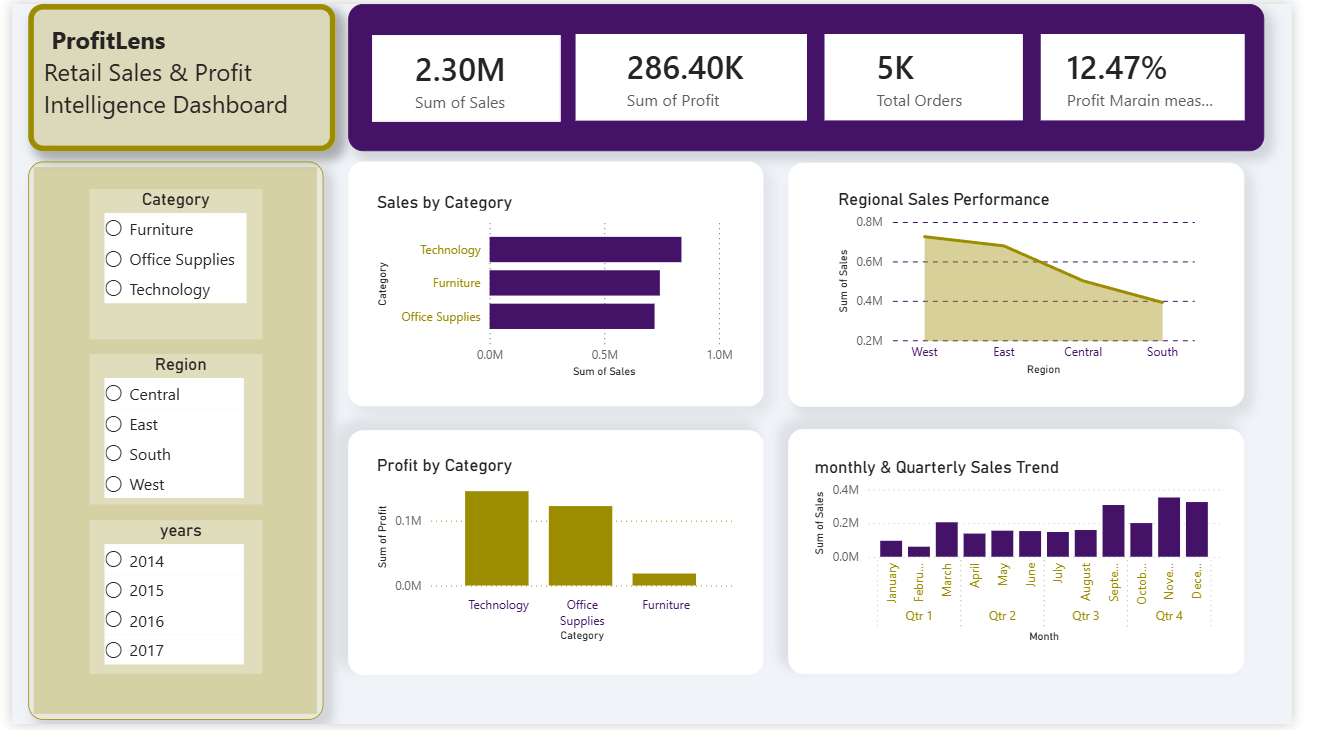

What the dashboard file says about the page in this screenshot:
{"tool":"powerbi","page":{"name":"Page 1","canvas":[1280,720],"ordinal":0},"visuals":[{"type":"shape","box":[336.2,0,916.2,147.5],"z":0},{"type":"shape","box":[336.2,157.5,415,245],"z":500},{"type":"cardVisual","fields":{"Data":["Sum(Sample - Superstore.Sales)"]},"box":[360,31.2,188.8,86.2],"z":1000},{"type":"cardVisual","fields":{"Data":["Sum(Sample - Superstore.Profit)"]},"box":[563.8,30,231.2,86.2],"z":2000},{"type":"clusteredBarChart","title":" Sales by Category","fields":{"Category":["Sample - Superstore.Category"],"Y":["Sum(Sample - Superstore.Sales)"]},"box":[360,187.5,366.2,191.2],"z":3000},{"type":"shape","box":[336.2,426.2,415,245],"z":3250},{"type":"shape","box":[776.2,158.8,456.2,243.8],"z":3500},{"type":"shape","box":[776.2,425,456.2,245],"z":3750},{"type":"clusteredColumnChart","title":"Profit by Category","fields":{"Category":["Sample - Superstore.Category"],"Y":["Sum(Sample - Superstore.Profit)"]},"box":[360,451.2,366.2,191.2],"z":4000},{"type":"stackedAreaChart","title":"Regional Sales Performance ","fields":{"Category":["Sample - Superstore.Region"],"Y":["Sum(Sample - Superstore.Sales)"]},"box":[821.2,185,366.2,191.2],"z":5000},{"type":"clusteredColumnChart","title":"monthly & Quarterly Sales Trend","fields":{"Y":["Sum(Sample - Superstore.Sales)"],"Category":["Sample - Superstore.Order Date.Variation.Date Hierarchy.Quarter","Sample - Superstore.Order Date.Variation.Date Hierarchy.Month"]},"box":[797.5,452.5,415,191.2],"z":6000},{"type":"textbox","box":[16.2,0,307.5,147.5],"z":7000},{"type":"cardVisual","fields":{"Data":["Sample - Superstore.Profit Margin measure"]},"box":[1028.8,30,203.8,86.2],"z":8000},{"type":"shape","box":[16.2,157.5,295,558.8],"z":8500},{"type":"cardVisual","fields":{"Data":["Sample - Superstore.Total Orders"]},"box":[812.5,30,198.8,86.2],"z":9000},{"type":"listSlicer","fields":{"Values":["Sample - Superstore.Region"]},"box":[77.5,350,172.5,150],"z":10000},{"type":"listSlicer","fields":{"Values":["Sample - Superstore.Category"]},"box":[77.5,185,172.5,150],"z":11000},{"type":"listSlicer","fields":{"Values":["Sample - Superstore.years"]},"box":[77.5,516.2,172.5,153.8],"z":12000}]}

Visuals, with their boxes in screenshot pixels (x1, y1, x2, y2), scaled from the page's 1280x720 canvas onto the 1320x730 screenshot:
shape: [347,0,1292,150]
shape: [347,160,775,408]
cardVisual - Sum(Sample - Superstore.Sales): [371,32,566,119]
cardVisual - Sum(Sample - Superstore.Profit): [581,30,820,118]
" Sales by Category" clusteredBarChart: [371,190,749,384]
shape: [347,432,775,681]
shape: [800,161,1271,408]
shape: [800,431,1271,679]
"Profit by Category" clusteredColumnChart: [371,457,749,651]
"Regional Sales Performance " stackedAreaChart: [847,188,1225,381]
"monthly & Quarterly Sales Trend" clusteredColumnChart: [822,459,1250,653]
textbox: [17,0,334,150]
cardVisual - Sample - Superstore.Profit Margin measure: [1061,30,1271,118]
shape: [17,160,321,726]
cardVisual - Sample - Superstore.Total Orders: [838,30,1043,118]
listSlicer - Sample - Superstore.Region: [80,355,258,507]
listSlicer - Sample - Superstore.Category: [80,188,258,340]
listSlicer - Sample - Superstore.years: [80,523,258,679]
